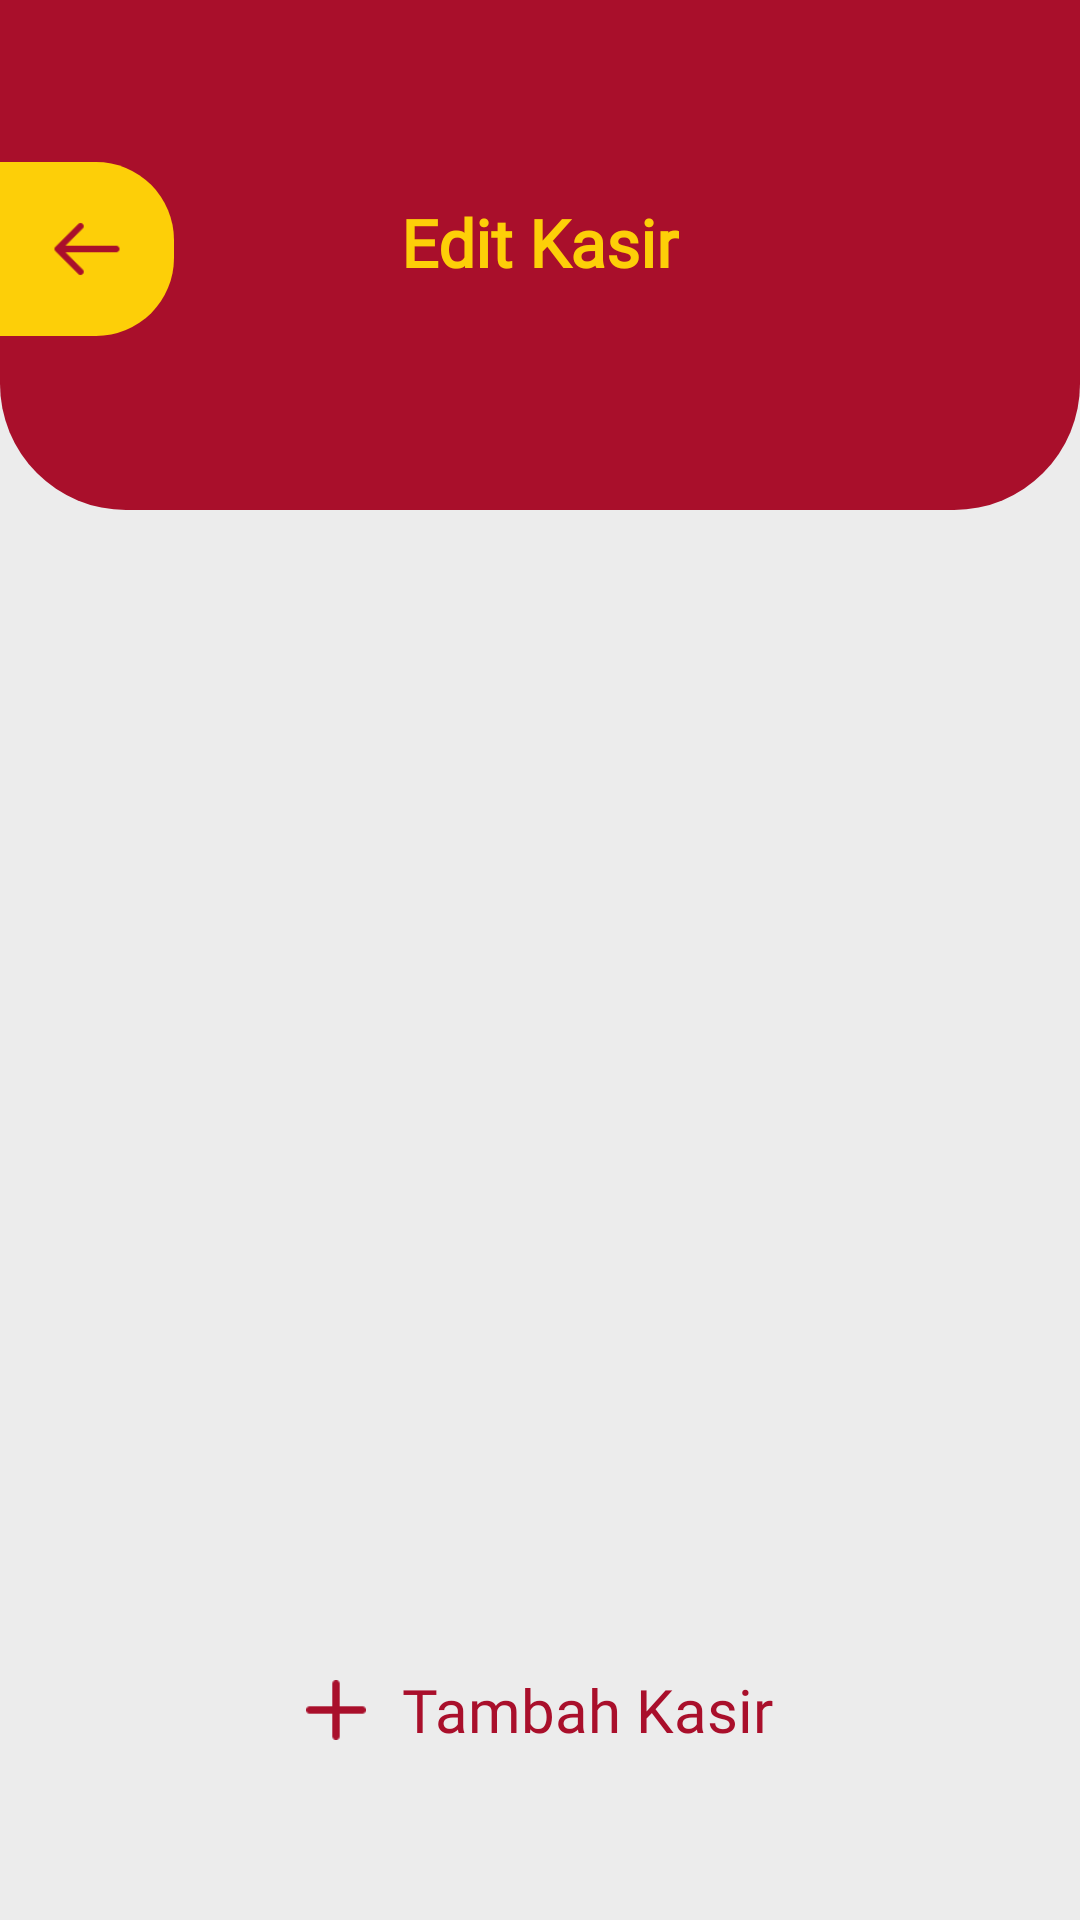

Icon click points for this 1080w x 1920h phone screenshot, format (x,y):
back: (87,249)
plus: (336,1710)
